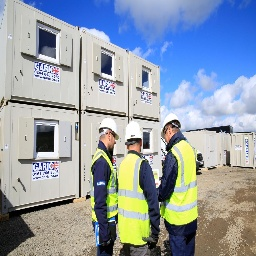helmet: (97, 116, 122, 141), (160, 113, 182, 141), (123, 120, 144, 145)
person: (156, 111, 199, 256), (119, 118, 156, 256), (89, 116, 120, 256)
vest: (117, 156, 152, 245), (90, 151, 118, 220), (172, 148, 197, 222)
